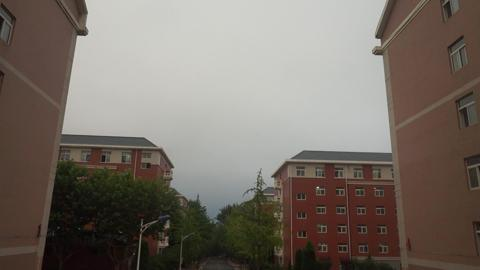UAV: (77, 177, 90, 182)
